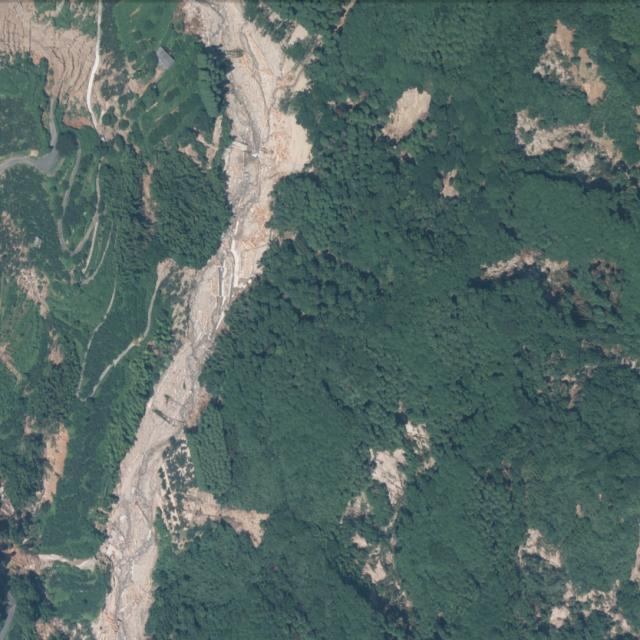landslide: (91, 0, 311, 640), (0, 1, 128, 140), (535, 19, 608, 104), (516, 109, 623, 165), (384, 87, 432, 140), (37, 423, 68, 505), (370, 449, 407, 507), (481, 250, 542, 280), (568, 150, 596, 173)
